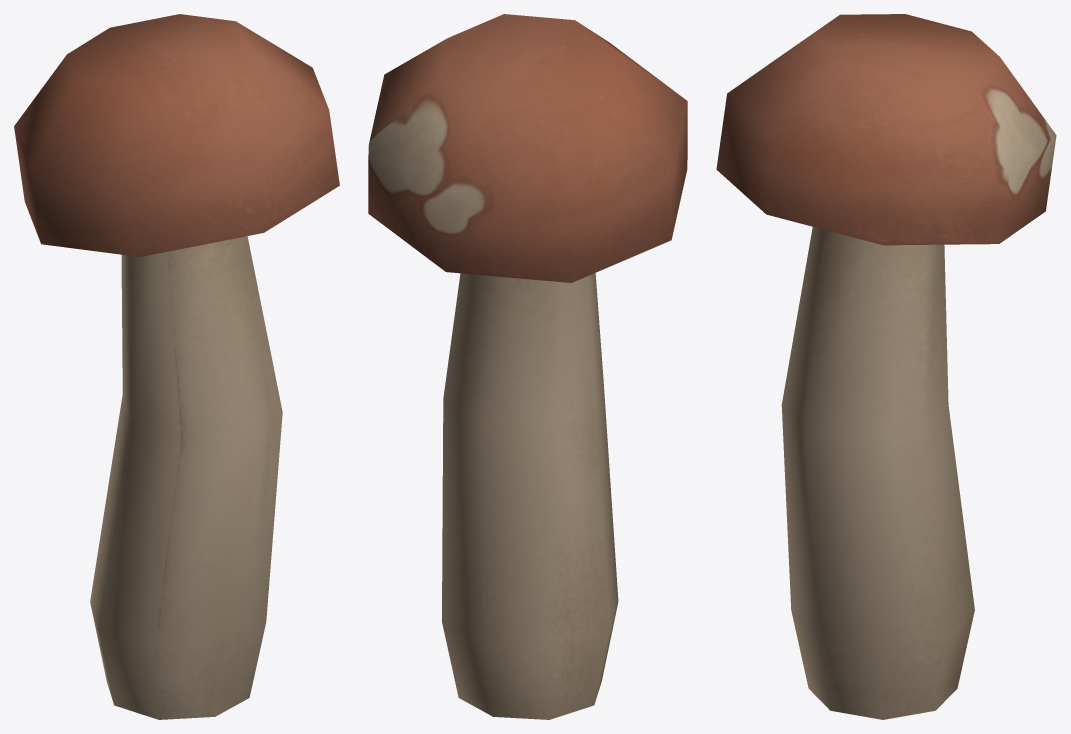
Rendered from shroom.gltf.
The picture shows the model from 3 angles, left to right: view 1: azimuth 30°, elevation 25°; view 2: azimuth 150°, elevation 25°; view 3: azimuth 270°, elevation 25°; orthographic projection.
Visible parts, largest first — view 1: Cylinder.001, Cylinder; view 2: Cylinder.001, Cylinder; view 3: Cylinder.001, Cylinder.
Boxes of the visible parts, x1,y1,x2,y2 form: Cylinder.001: [90, 236, 282, 719]; Cylinder: [14, 14, 339, 256]; Cylinder.001: [442, 273, 618, 719]; Cylinder: [368, 14, 687, 282]; Cylinder.001: [781, 227, 974, 719]; Cylinder: [716, 14, 1056, 245].
Size of the model in its own units: 0.5166 by 1.1 by 0.521.
Materials: 1 (1 with a texture image).
